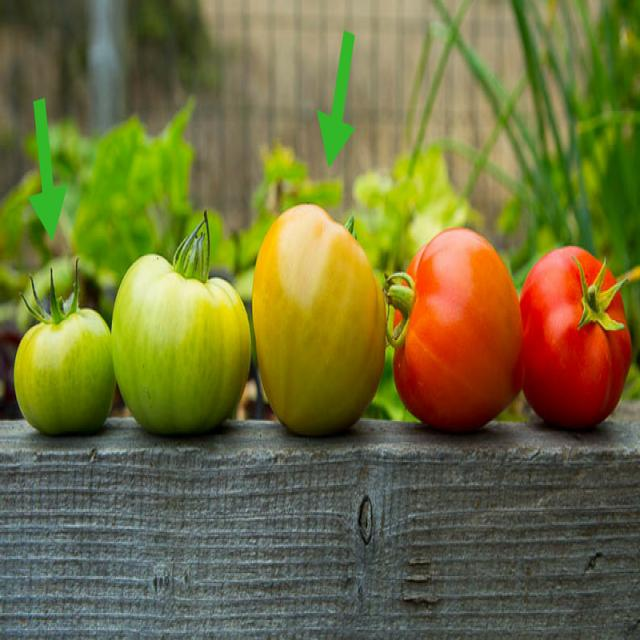kirmizi: (531, 194, 630, 453)
sari: (399, 222, 521, 430)
yesil: (256, 190, 384, 450), (98, 222, 248, 438), (13, 290, 119, 448)
